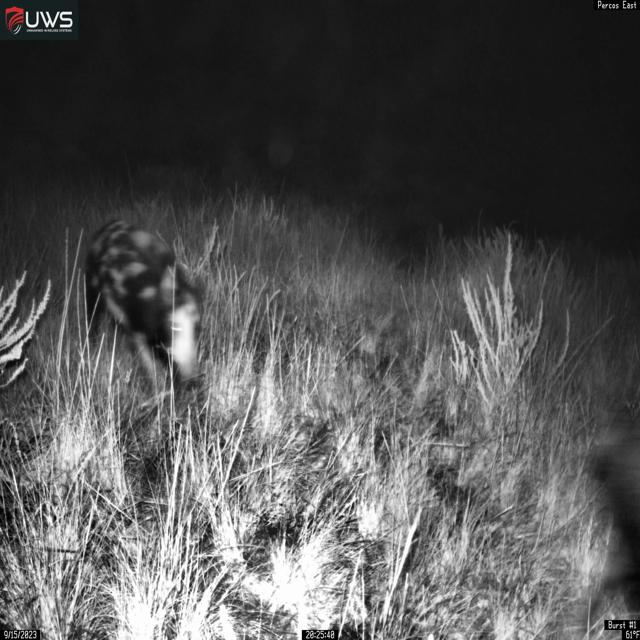pig: (83, 218, 204, 402)
